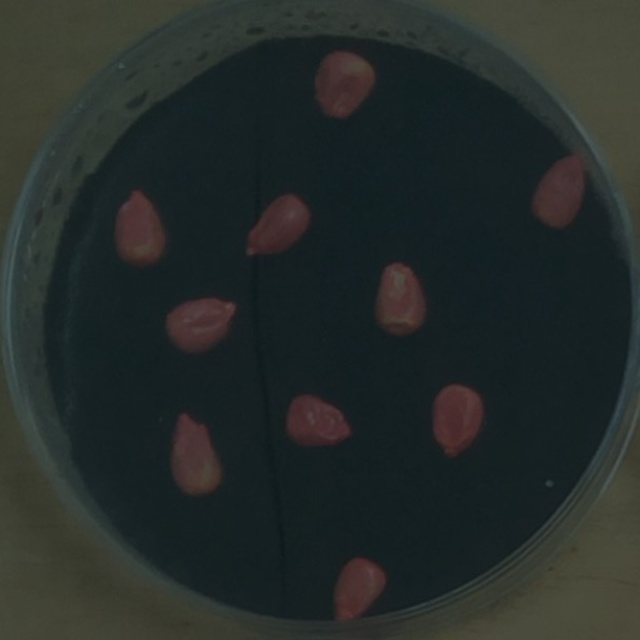Zea mays: (304, 41, 383, 129), (161, 406, 230, 506), (105, 181, 173, 276), (521, 144, 591, 236), (156, 290, 245, 362), (236, 187, 317, 266), (366, 256, 435, 345), (423, 377, 491, 467), (323, 549, 395, 630), (278, 386, 359, 455)
